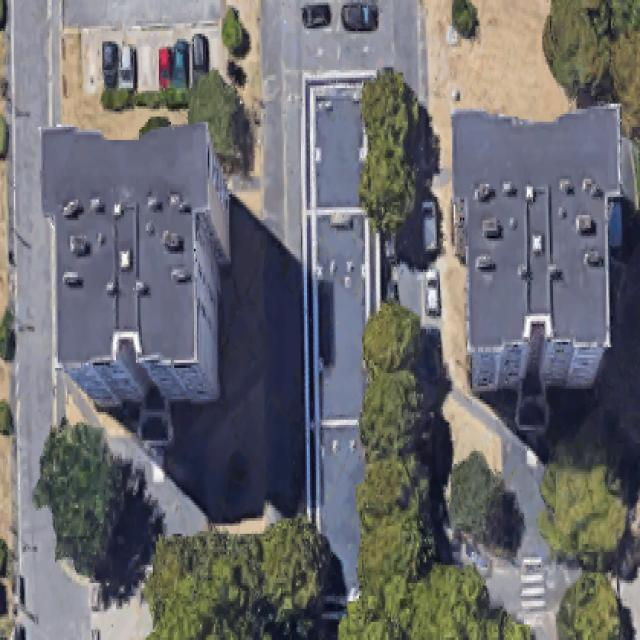immeuble: (37, 124, 235, 406), (450, 106, 626, 392), (302, 73, 382, 622)
